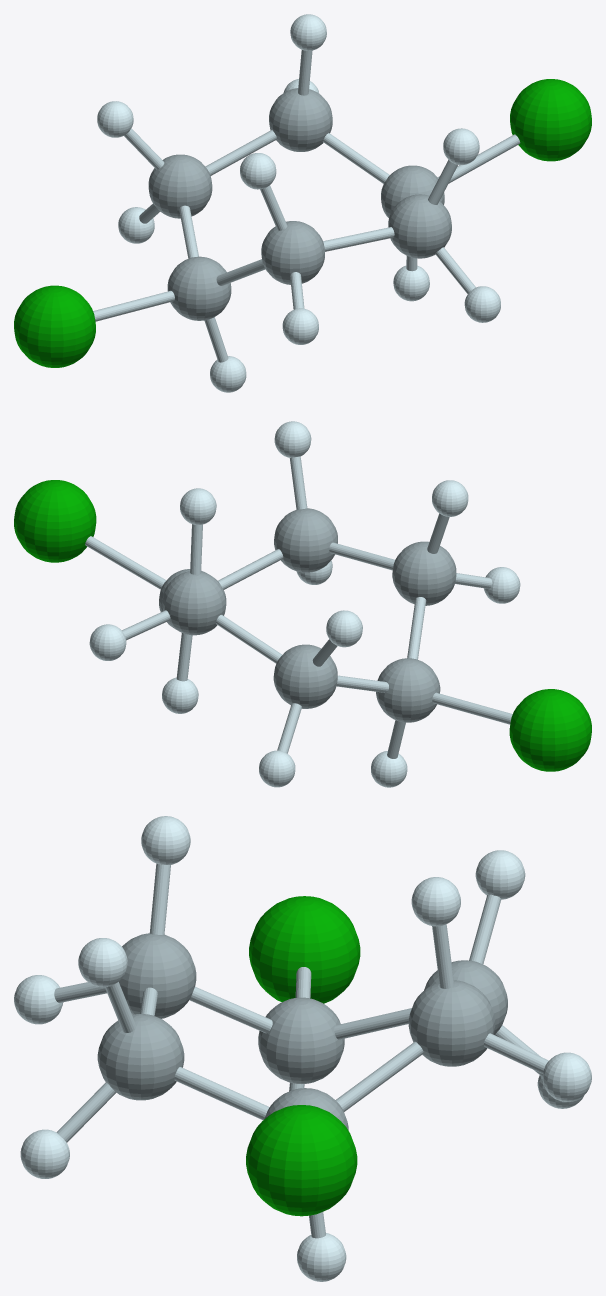
Rendered from irc_step_145.glb.
The picture shows the model from 3 angles, top to bottom: view 1: azimuth 30°, elevation 25°; view 2: azimuth 150°, elevation 25°; view 3: azimuth 270°, elevation 25°; orthographic projection. The views are drawn at different scales.
Parts seen in each view (by area): view 1: Renderer Node; view 2: Renderer Node; view 3: Renderer Node.
Boxes of the visible parts, left/top/right/bottom form: Renderer Node: left=14, top=14, right=591, bottom=392; Renderer Node: left=14, top=421, right=591, bottom=787; Renderer Node: left=14, top=816, right=591, bottom=1281.
Bounding box in the file's own units: 7.11 × 3.62 × 4.66.
